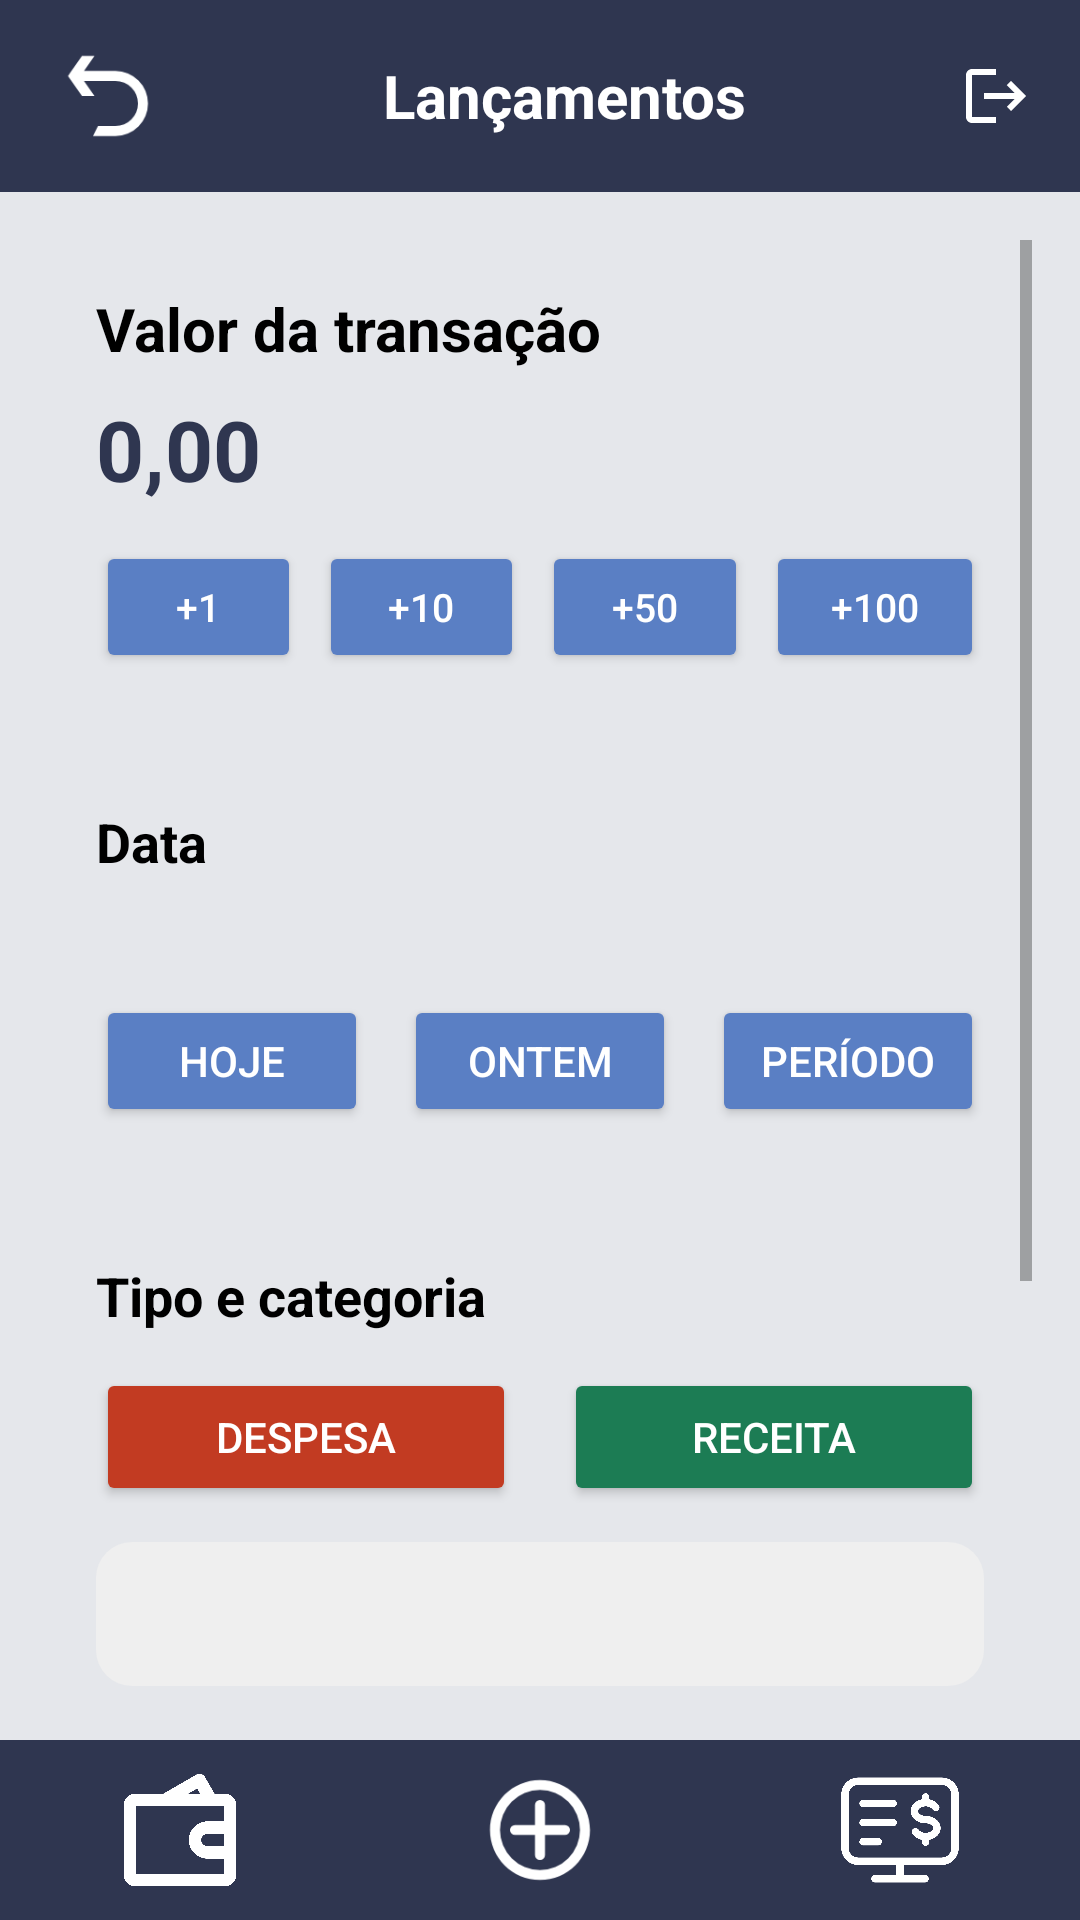

Screen size 1080×1920. Icon name, then its center in pixels as (x,y):
adicionar: (540,1830)
carteira: (180,1830)
extrato: (900,1830)
voltar: (108,96)
